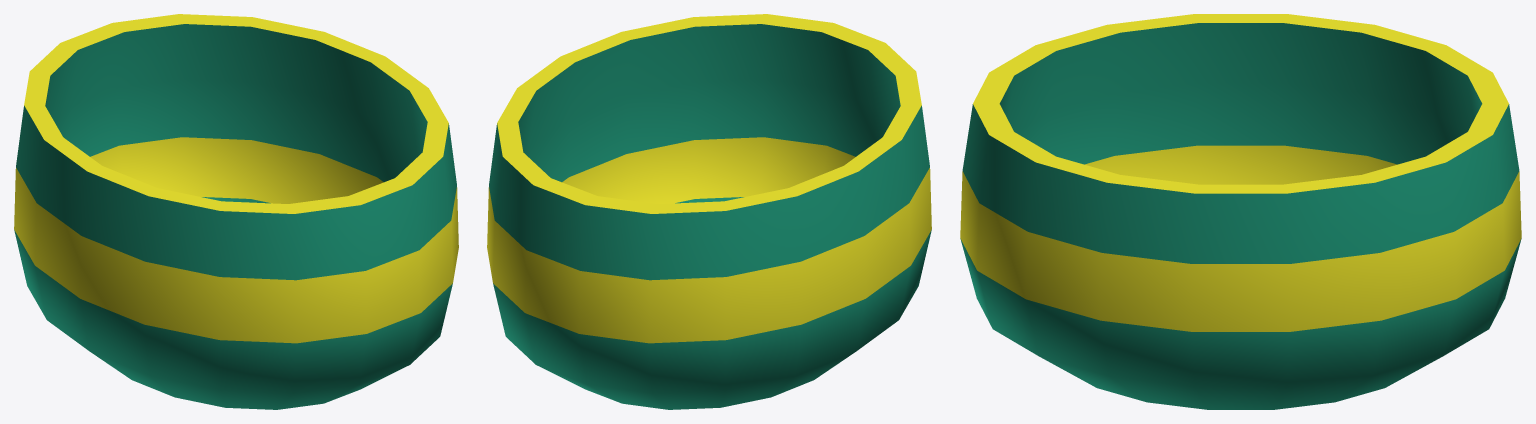
File: SM_Dishes_9.fbx
3 renders of one model, left to right at view 1: azimuth 30°, elevation 25°; view 2: azimuth 150°, elevation 25°; view 3: azimuth 270°, elevation 25°, orthographic. The views are drawn at different scales.
Visible parts, largest first — view 1: SM_Dishes_9; view 2: SM_Dishes_9; view 3: SM_Dishes_9.
Part boxes in pixels (bbox=[...]): SM_Dishes_9: bbox=[14, 14, 458, 409]; SM_Dishes_9: bbox=[487, 14, 931, 409]; SM_Dishes_9: bbox=[960, 14, 1521, 409].
Bounding box in the file's own units: 34.1 × 43.03 × 20.56.
Materials: 1 (1 with a texture image).
